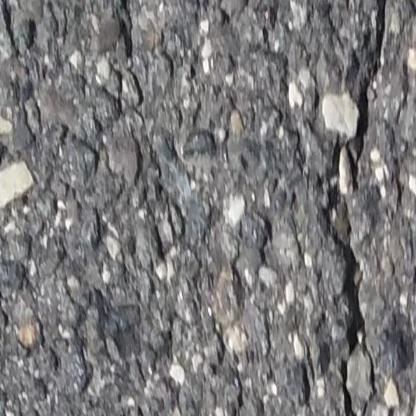Cracks: (318, 0, 392, 416)
